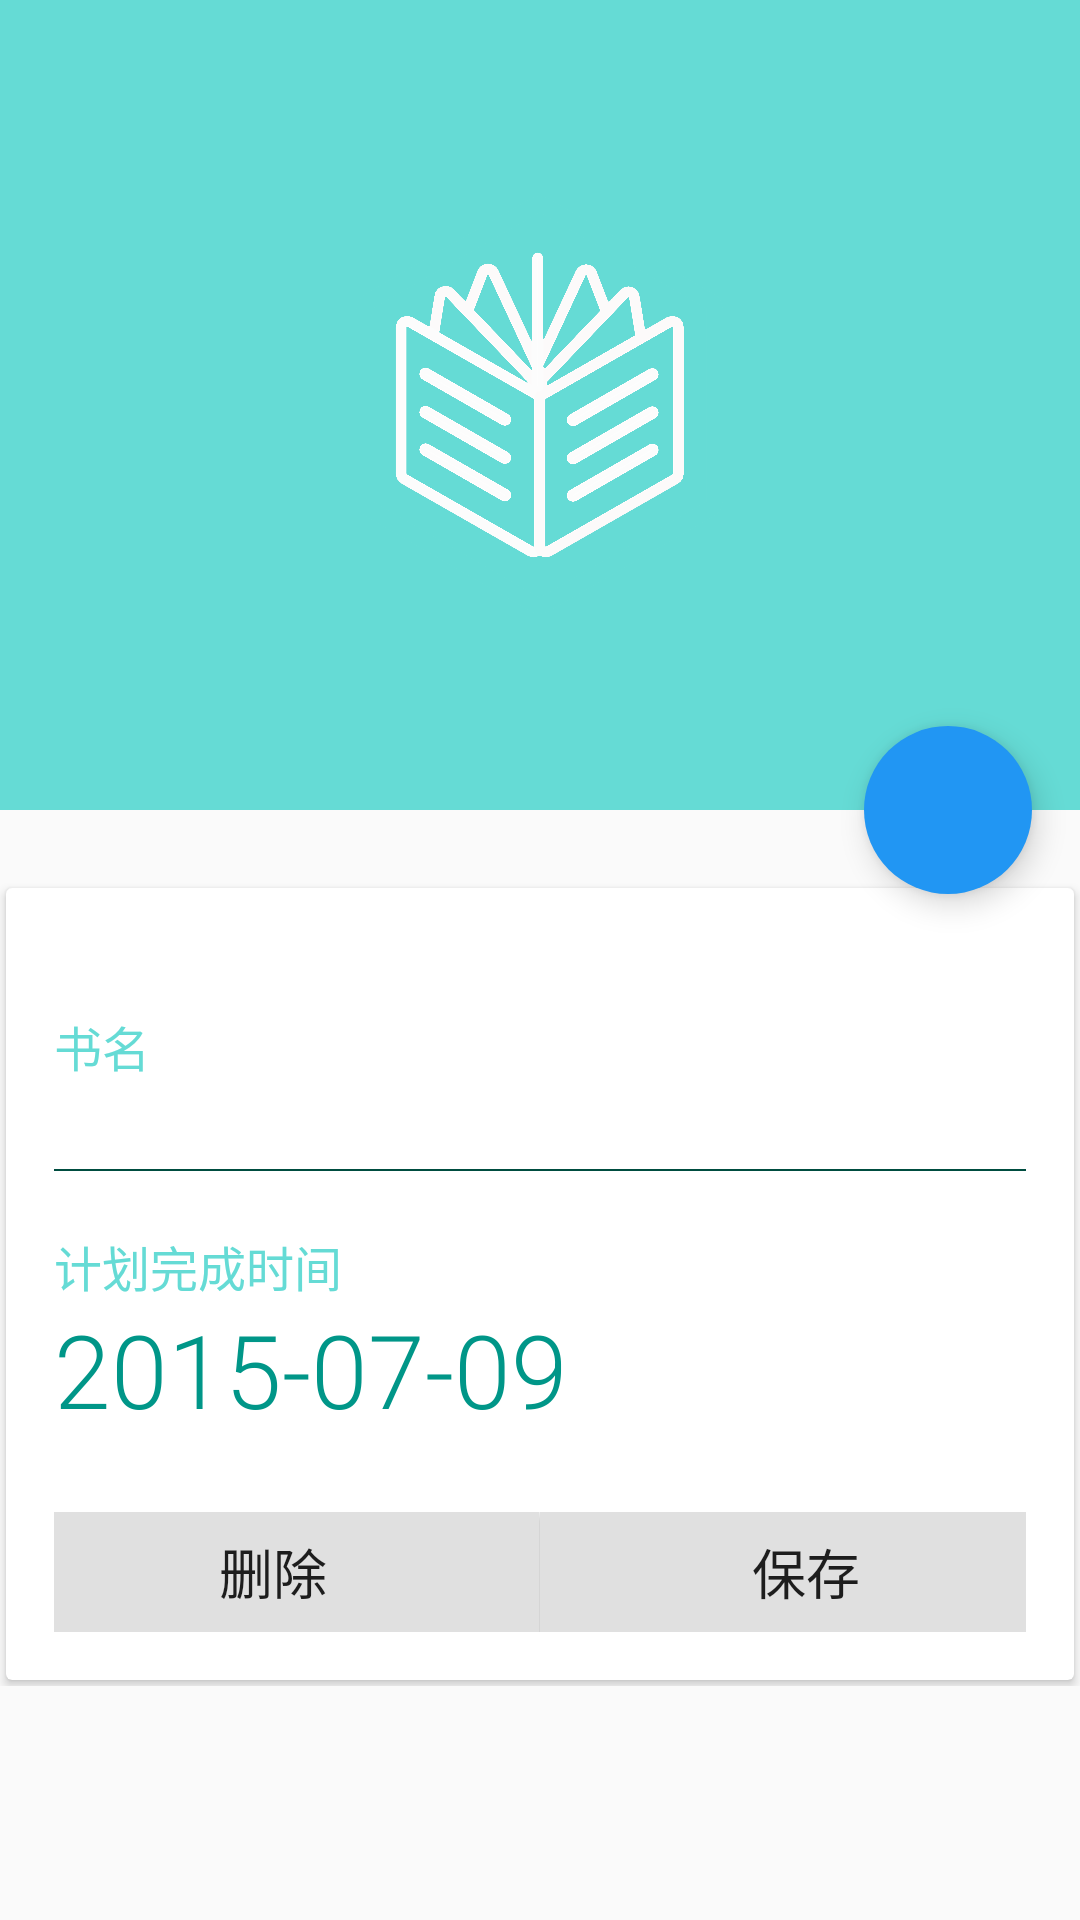

Icon click points for this 1080px×1920px phone screenshot, format (x,y):
reading routine no annulus: (540,405)
